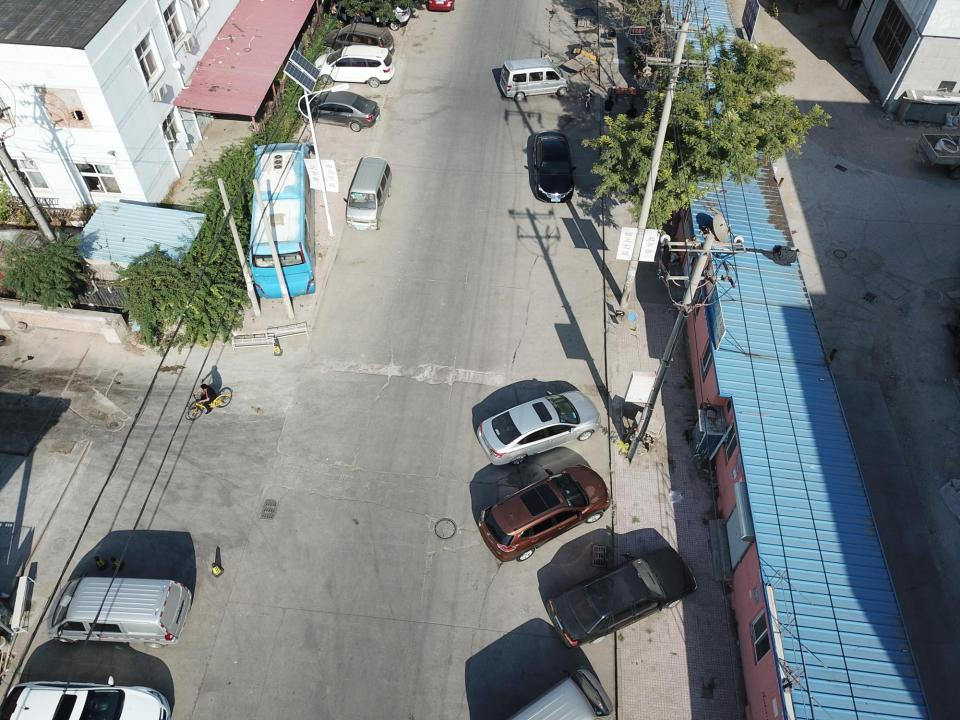bus: (239, 136, 320, 300)
car: (543, 549, 699, 647), (474, 458, 615, 564), (475, 388, 602, 468), (1, 673, 174, 720), (520, 126, 576, 206)
van: (38, 574, 194, 650), (340, 153, 392, 235), (293, 89, 380, 132), (306, 44, 392, 87), (496, 56, 572, 101), (318, 21, 400, 62)
